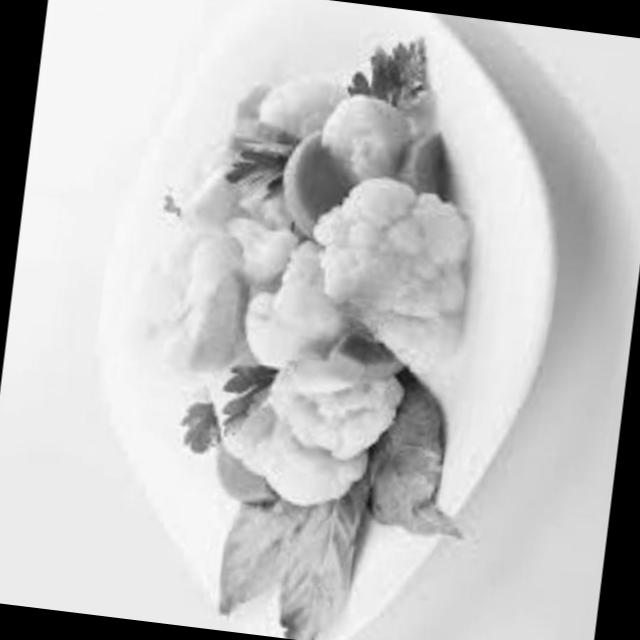sup lo: (288, 159, 490, 379), (110, 133, 248, 377), (215, 339, 396, 522), (194, 195, 353, 392), (246, 60, 366, 168), (308, 78, 428, 177)
